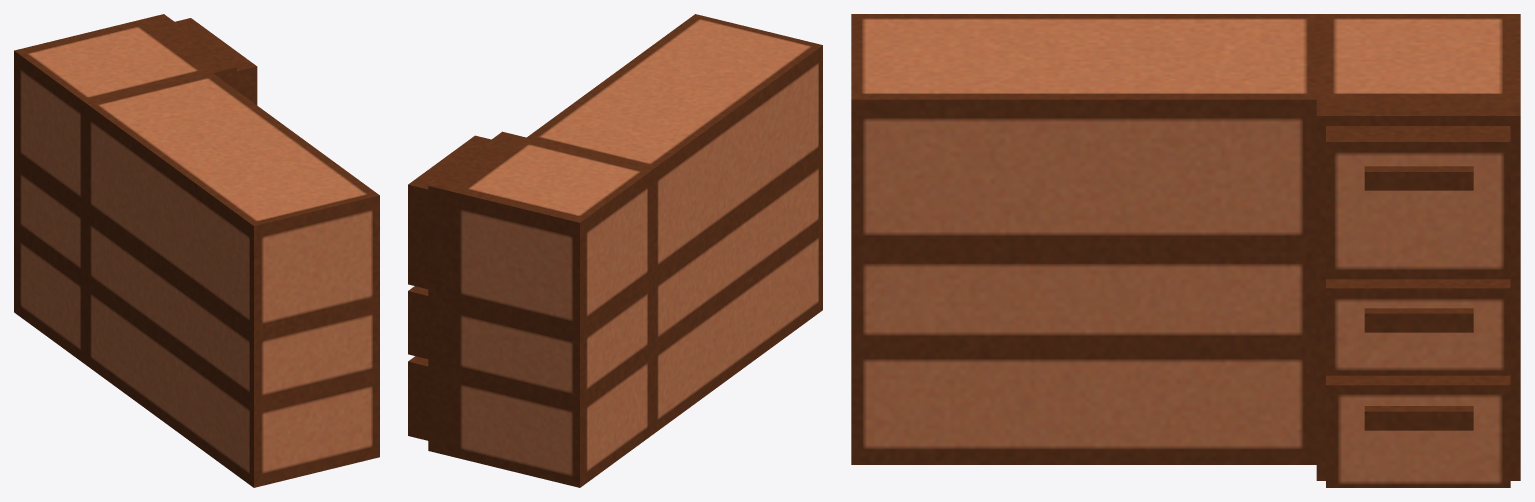
Rendered from HelpDesk.fbx.
The picture shows the model from 3 angles, left to right: view 1: azimuth 30°, elevation 25°; view 2: azimuth 150°, elevation 25°; view 3: azimuth 270°, elevation 25°; orthographic projection. The views are drawn at different scales.
Parts seen in each view (by area): view 1: pCube5; view 2: pCube5; view 3: pCube5.
Boxes of the visible parts, left/top/right/bottom form: pCube5: left=14, top=14, right=379, bottom=487; pCube5: left=408, top=14, right=822, bottom=487; pCube5: left=851, top=14, right=1520, bottom=487.
Size of the model in its own units: 2.69 by 3.69 by 6.13.
